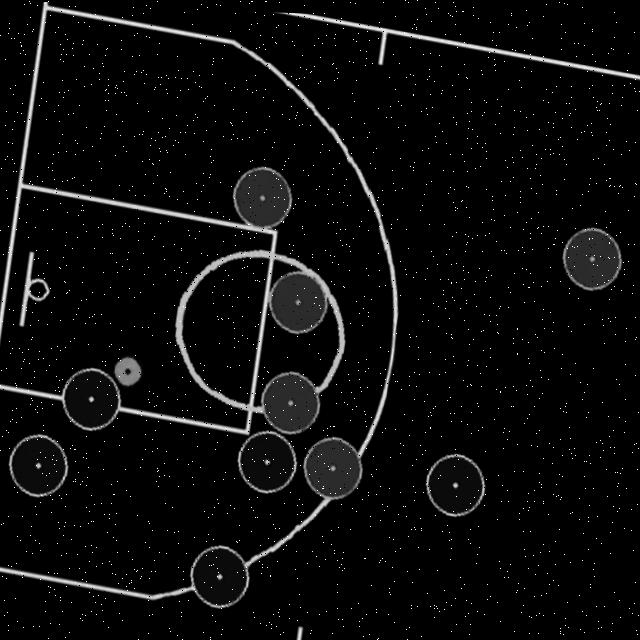Basketball: (113, 352, 145, 387)
Team_A: (9, 433, 68, 497), (237, 427, 296, 491), (190, 542, 249, 605), (62, 366, 121, 429), (426, 449, 485, 512)
Team_B: (303, 432, 363, 496), (232, 163, 292, 226), (562, 221, 622, 284), (269, 267, 328, 331), (261, 368, 320, 431)
